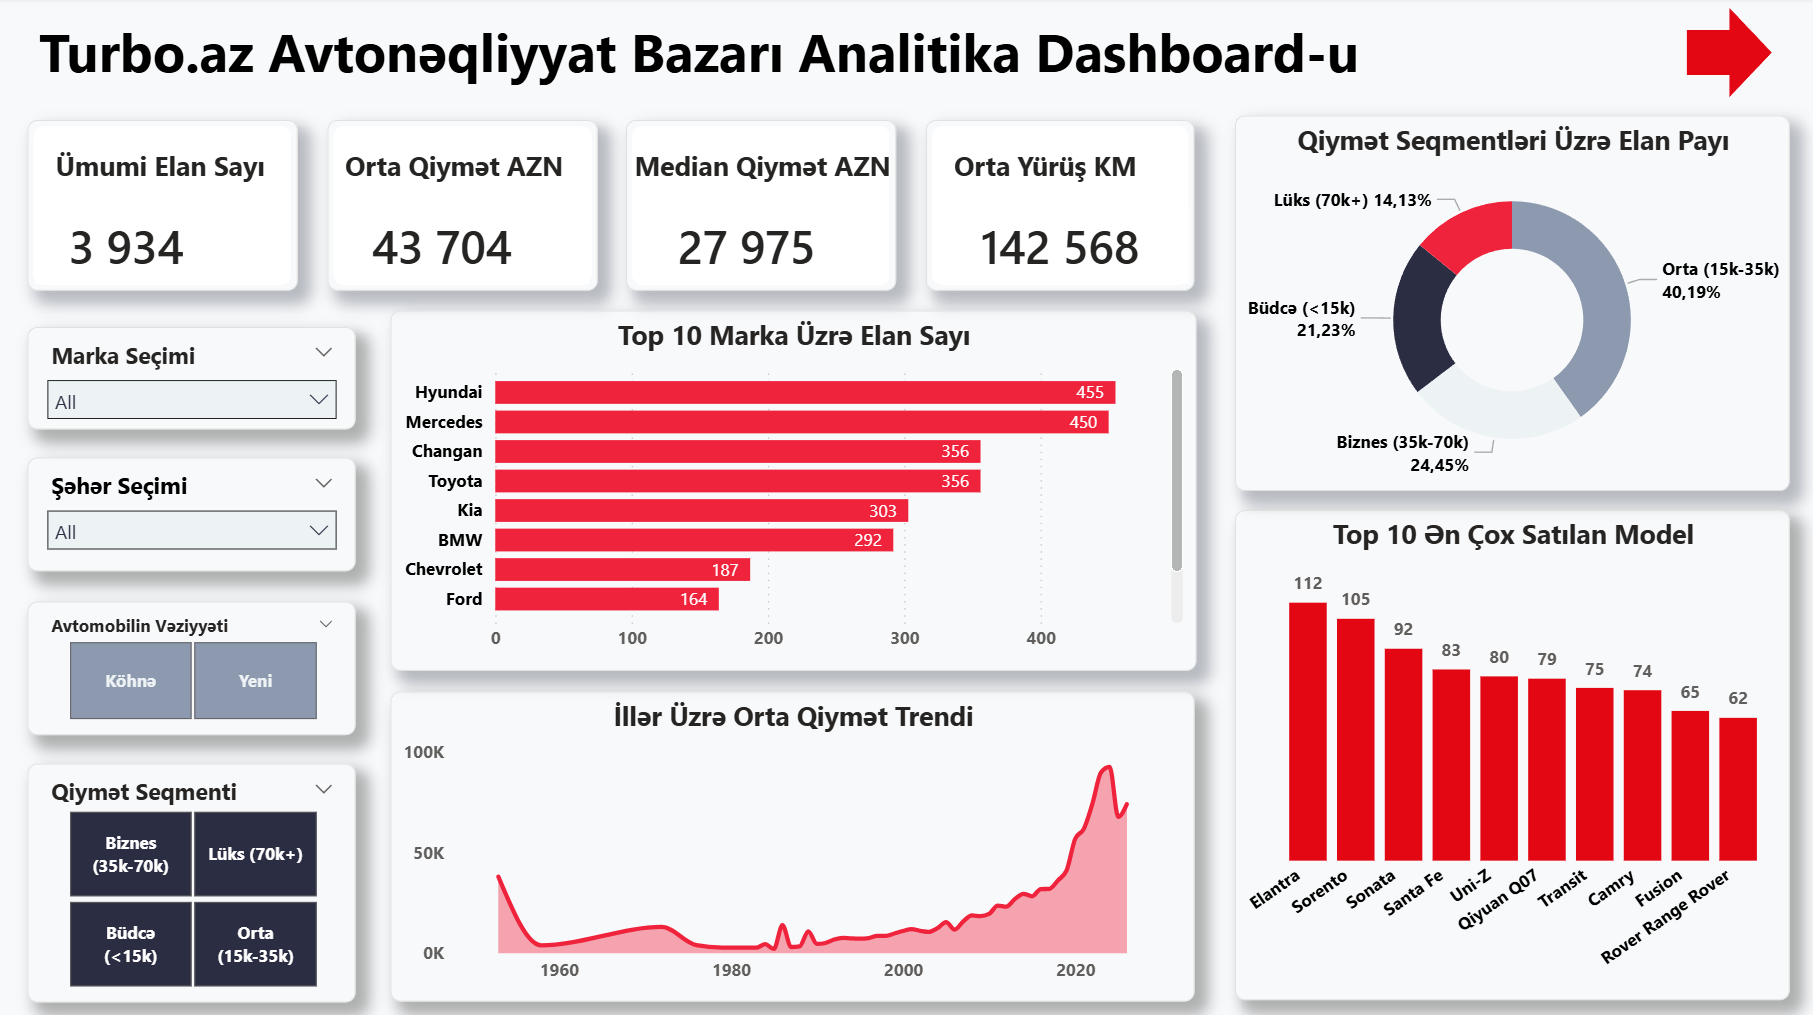

This screenshot's page, from the dashboard's own definition file:
{"tool":"powerbi","page":{"name":"Market Overview","canvas":[1280,720],"ordinal":0},"visuals":[{"type":"shape","box":[657.1,86.5,188.8,120.2],"z":1000},{"type":"shape","box":[446.1,86.5,189.8,120.2],"z":2000},{"type":"shape","box":[237,86.5,190,120.2],"z":3000},{"type":"shape","box":[24.3,86.5,190,120.2],"z":4000},{"type":"shape","box":[24.3,220.4,245,80],"z":5000},{"type":"shape","box":[24.3,323.8,245,80],"z":6000},{"type":"shape","box":[24.3,425,244.7,93.9],"z":7000},{"type":"shape","box":[24.3,539,245,167.7],"z":8000},{"type":"shape","box":[298.5,220.4,547.4,253.1],"z":9000},{"type":"shape","box":[298.5,491.5,547.4,215.2],"z":10000},{"type":"shape","box":[873.3,360.7,377.6,345.9],"z":11000},{"type":"shape","box":[874.3,86.5,377.6,261.6],"z":12000},{"type":"shape","box":[24.3,7.4,951.3,63.3],"z":13000},{"type":"cardVisual","title":"Ümumi Elan Sayı","fields":{"Data":["_Measures.Total Cars"]},"box":[28.5,140.3,180.4,66.4],"z":14000},{"type":"cardVisual","fields":{"Data":["_Measures.Avg Price"]},"box":[237.3,140.3,180.4,66.4],"z":15000},{"type":"cardVisual","fields":{"Data":["_Measures.Median Price"]},"box":[452.5,140.3,180.4,66.4],"z":16000},{"type":"cardVisual","fields":{"Data":["_Measures.Avg Mileage"]},"box":[665.5,140.3,180.4,66.4],"z":17000},{"type":"slicer","fields":{"Values":["turbo_cars.Avtomobilin Vəziyyəti"]},"box":[24.3,425,245,93.9],"z":18000},{"type":"slicer","fields":{"Values":["turbo_cars.price_segment"]},"box":[24.3,539,244.7,167.7],"z":19000},{"type":"slicer","fields":{"Values":["turbo_cars.marka"]},"box":[24.3,220.4,244.7,71.7],"z":20000},{"type":"clusteredBarChart","title":"Top 10 Marka Üzrə Elan Sayı","fields":{"Y":["_Measures.Total Cars"],"Category":["turbo_cars.marka"]},"box":[298.5,220.4,547.4,253.1],"z":21000},{"type":"lineChart","title":"İllər Üzrə Orta Qiymət Trendi","fields":{"Category":["turbo_cars.year"],"Y":["_Measures.Avg Price"]},"box":[299.5,491.5,547.4,218.3],"z":22000},{"type":"donutChart","title":"Qiymət Seqmentləri Üzrə Elan Payı","fields":{"Category":["turbo_cars.price_segment"],"Y":["_Measures.Total Cars"]},"box":[873.3,86.5,390.2,264],"z":23000},{"type":"textbox","box":[27.4,7.4,955.6,63.3],"z":24000},{"type":"slicer","fields":{"Values":["turbo_cars.city"]},"box":[24.3,323.8,244.7,80.2],"z":25000},{"type":"textbox","box":[27.4,100.2,179.3,46.4],"z":26000},{"type":"textbox","box":[242.6,100.2,170.9,40.1],"z":27000},{"type":"textbox","box":[446.1,100.2,199.3,40.1],"z":28000},{"type":"textbox","box":[670.8,100.2,161.4,40.1],"z":29000},{"type":"clusteredColumnChart","title":"Top 10 Ən Çox Satılan Model","fields":{"Category":["turbo_cars.model"],"Y":["_Measures.Total Cars"]},"box":[872.8,360.6,377.3,345.1],"z":30000},{"type":"shape","box":[1190.8,7.4,60.1,63.3],"z":30002}]}

Visuals, with their boxes in screenshot pixels (x1, y1, x2, y2), scaled from the page's 1280x720 canvas onto the 1813x1015 screenshot:
shape: x1=931 y1=122 x2=1198 y2=291
shape: x1=632 y1=122 x2=901 y2=291
shape: x1=336 y1=122 x2=605 y2=291
shape: x1=34 y1=122 x2=304 y2=291
shape: x1=34 y1=311 x2=381 y2=423
shape: x1=34 y1=456 x2=381 y2=569
shape: x1=34 y1=599 x2=381 y2=732
shape: x1=34 y1=760 x2=381 y2=996
shape: x1=423 y1=311 x2=1198 y2=668
shape: x1=423 y1=693 x2=1198 y2=996
shape: x1=1237 y1=508 x2=1772 y2=996
shape: x1=1238 y1=122 x2=1773 y2=491
shape: x1=34 y1=10 x2=1382 y2=100
"Ümumi Elan Sayı" cardVisual: x1=40 y1=198 x2=296 y2=291
cardVisual - _Measures.Avg Price: x1=336 y1=198 x2=592 y2=291
cardVisual - _Measures.Median Price: x1=641 y1=198 x2=896 y2=291
cardVisual - _Measures.Avg Mileage: x1=943 y1=198 x2=1198 y2=291
slicer - turbo_cars.Avtomobilin Vəziyyəti: x1=34 y1=599 x2=381 y2=732
slicer - turbo_cars.price_segment: x1=34 y1=760 x2=381 y2=996
slicer - turbo_cars.marka: x1=34 y1=311 x2=381 y2=412
"Top 10 Marka Üzrə Elan Sayı" clusteredBarChart: x1=423 y1=311 x2=1198 y2=668
"İllər Üzrə Orta Qiymət Trendi" lineChart: x1=424 y1=693 x2=1200 y2=1001
"Qiymət Seqmentləri Üzrə Elan Payı" donutChart: x1=1237 y1=122 x2=1790 y2=494
textbox: x1=39 y1=10 x2=1392 y2=100
slicer - turbo_cars.city: x1=34 y1=456 x2=381 y2=570
textbox: x1=39 y1=141 x2=293 y2=207
textbox: x1=344 y1=141 x2=586 y2=198
textbox: x1=632 y1=141 x2=914 y2=198
textbox: x1=950 y1=141 x2=1179 y2=198
"Top 10 Ən Çox Satılan Model" clusteredColumnChart: x1=1236 y1=508 x2=1771 y2=995
shape: x1=1687 y1=10 x2=1772 y2=100
